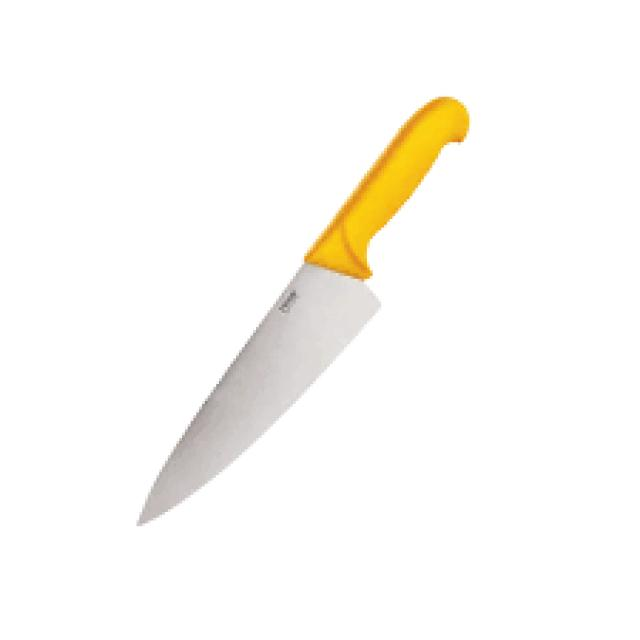Knife: (134, 94, 469, 526)
